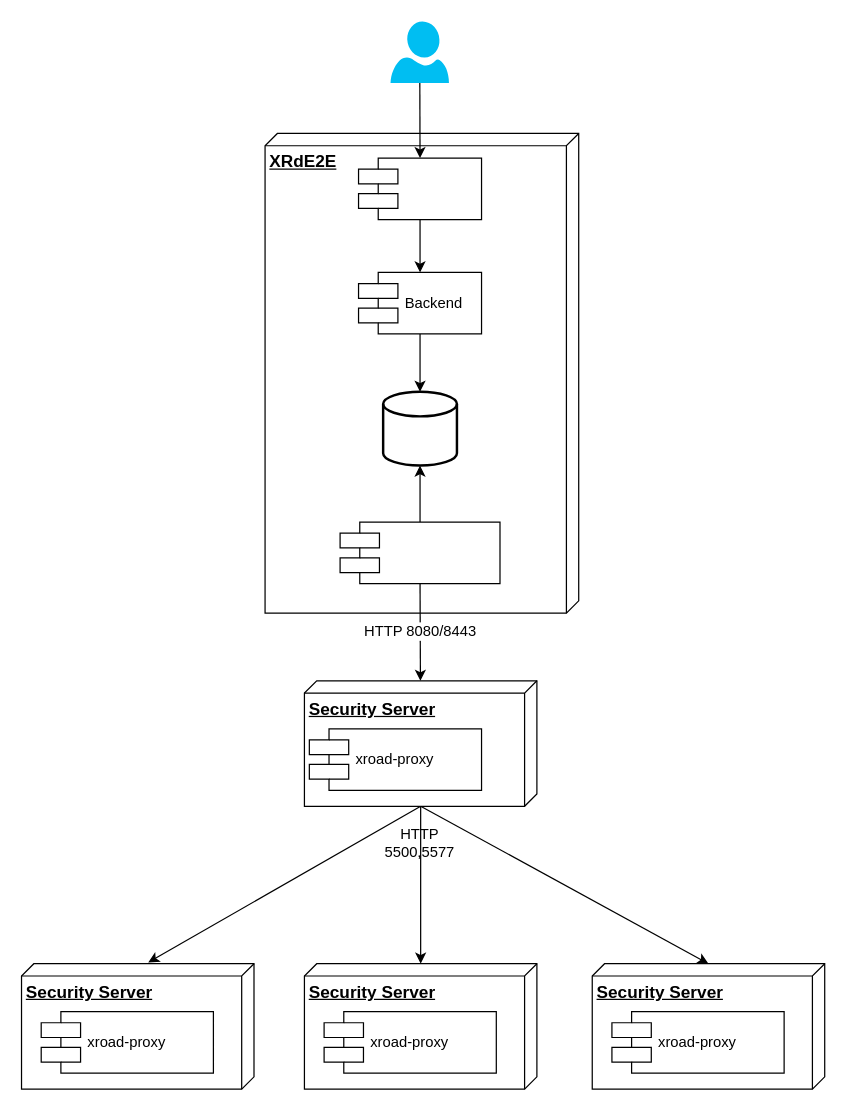
This 846x1111 diagram has some shape labels left out. The centre of each missing label's shape, as x and y in pixels:
Client: the point at 419,552
DB: the point at 419,428
UI: the point at 419,188
